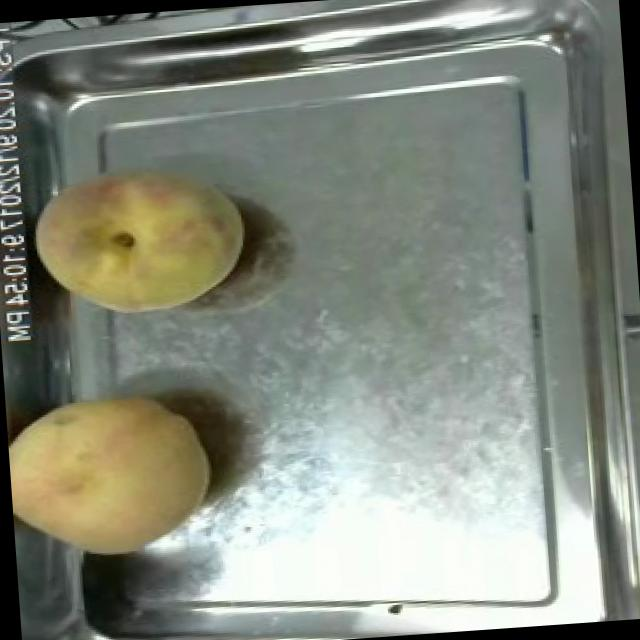Fruit: (21, 148, 260, 330), (4, 373, 224, 568)
